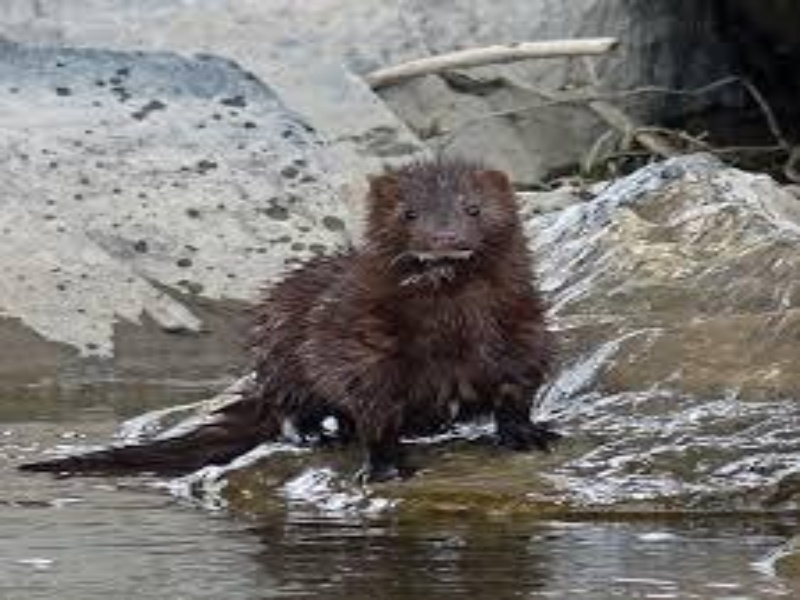minkish: (15, 151, 566, 488)
